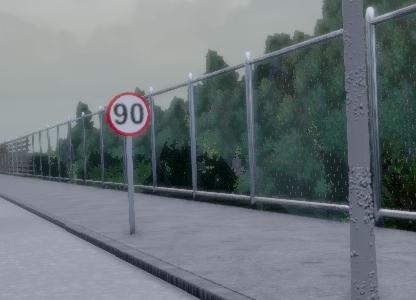Speed_90: (105, 92, 152, 138)
